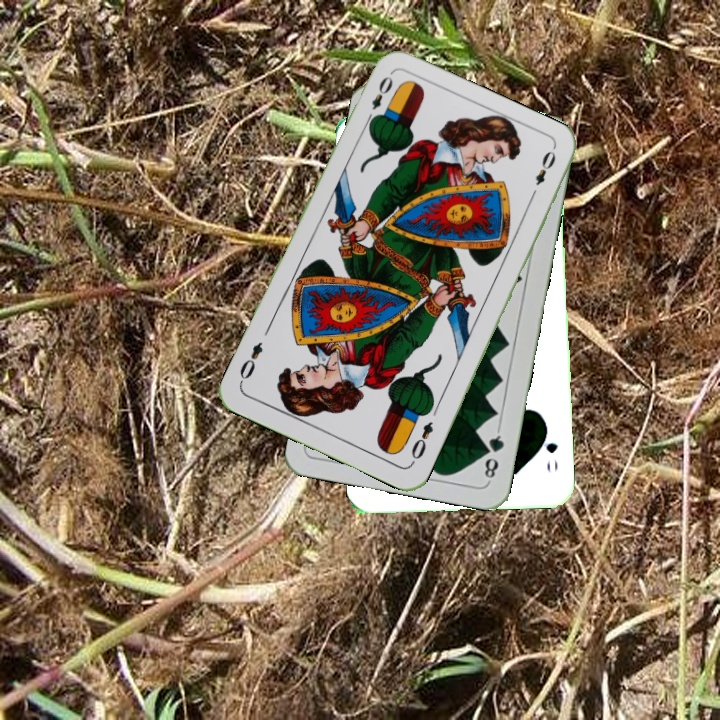EO: (361, 72, 396, 127), (406, 417, 436, 467)
G8: (480, 425, 507, 484)
GO: (538, 423, 561, 475)
